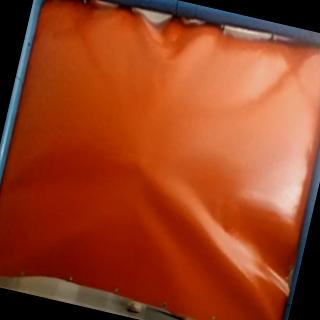Hit-hRxx: (132, 156, 148, 173)
